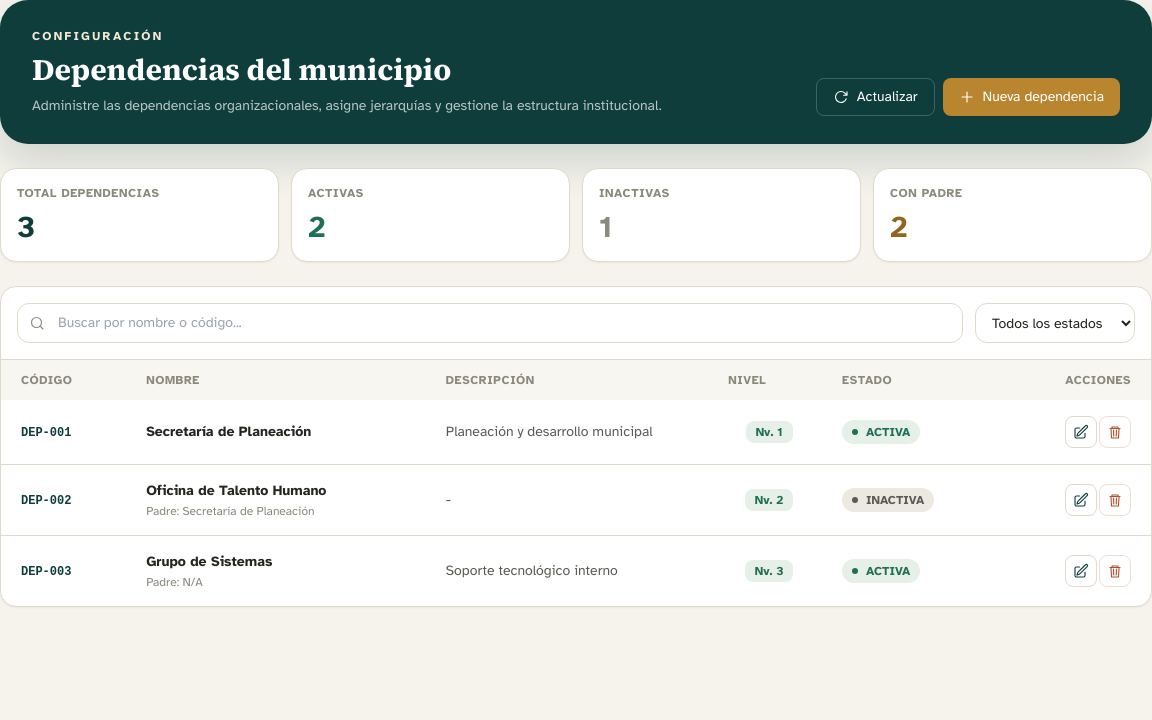
Scenario: DependenciasPage › edita una dependencia existente
Check: the text "DEP-001" is shown, box [21,426,71,440]
Click the button named "Editar" in the row of "DEP-001": (1081, 432) [1065,416,1097,448]
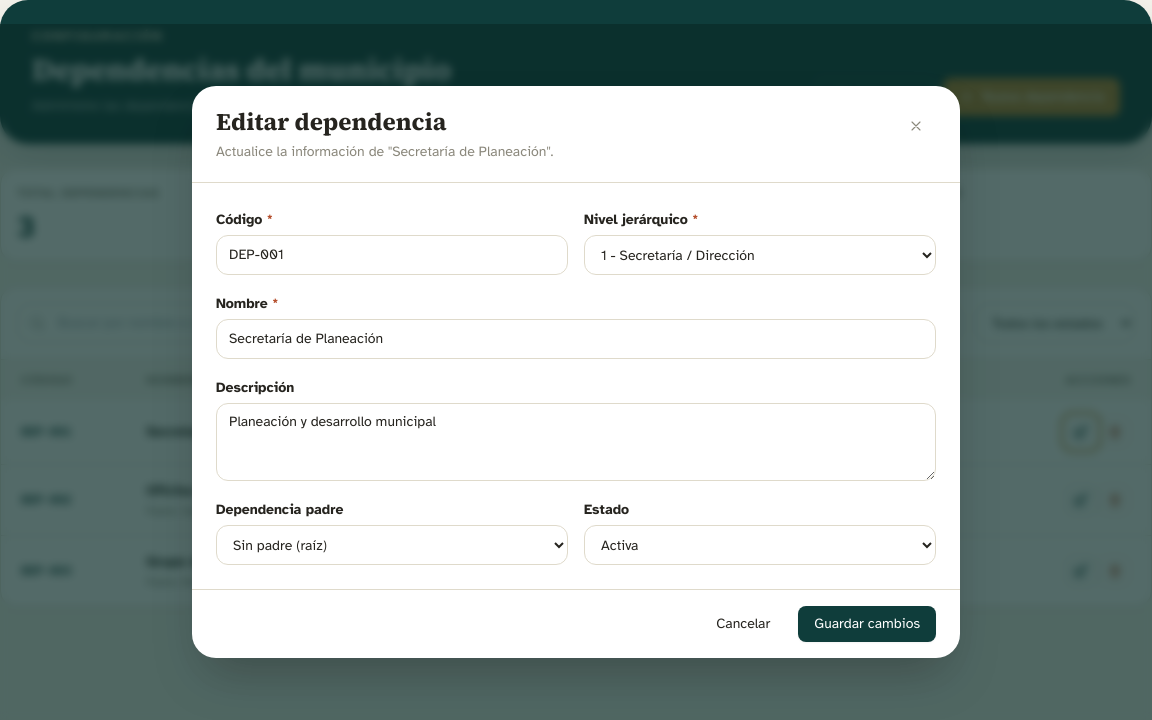
Check: the heading "Editar dependencia" is shown, box [216,105,446,138]
Check: the text "Actualice la información de \"Secretaría de Planeación\"." is shown, box [216,142,554,162]
Check: the 1st field with placeholder "Ej: DEP-001" is disabled, box [216,235,568,275]
Replace the text in the 2nd field with placeholder "Ej: Secretaría de Planeación" with "Secretaría Renombrada": (576, 339) [216,319,936,359]
Replace the text in the text box with placeholder "Descripción opcional de la dependencia..." with "Descripción actualizada": (576, 442) [216,403,936,481]
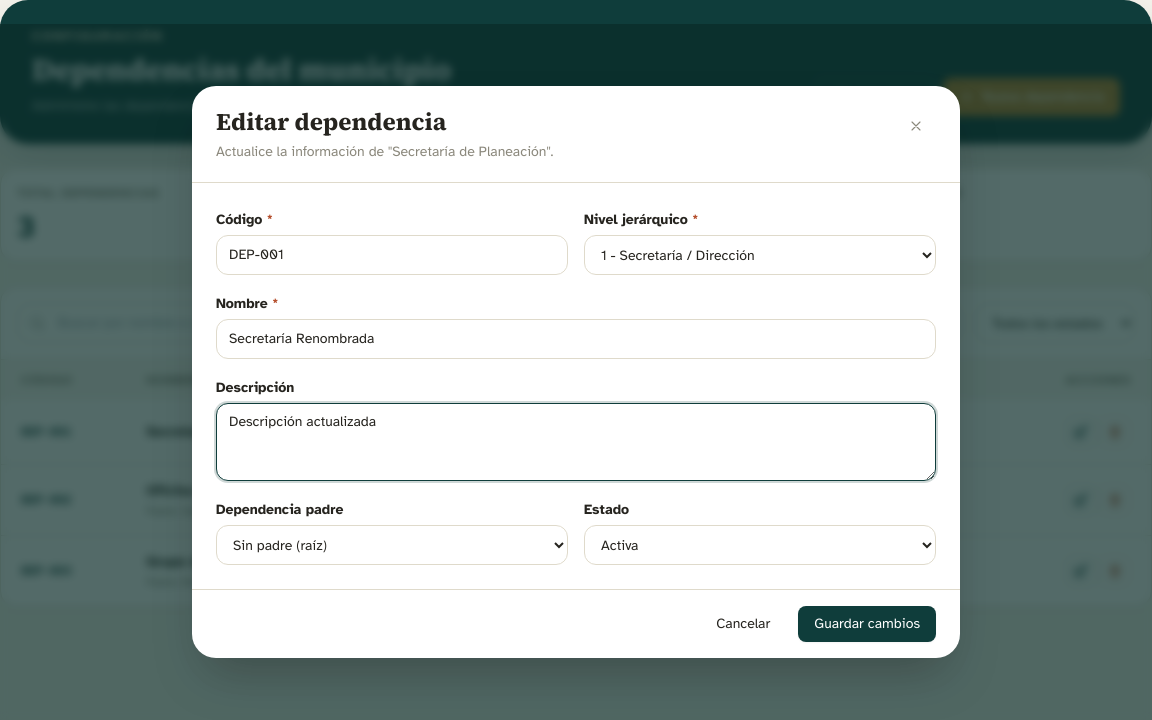
Select "3 - Oficina / Grupo" in the dropdown below "Nivel jerárquico": (760, 255) [584,235,936,275]
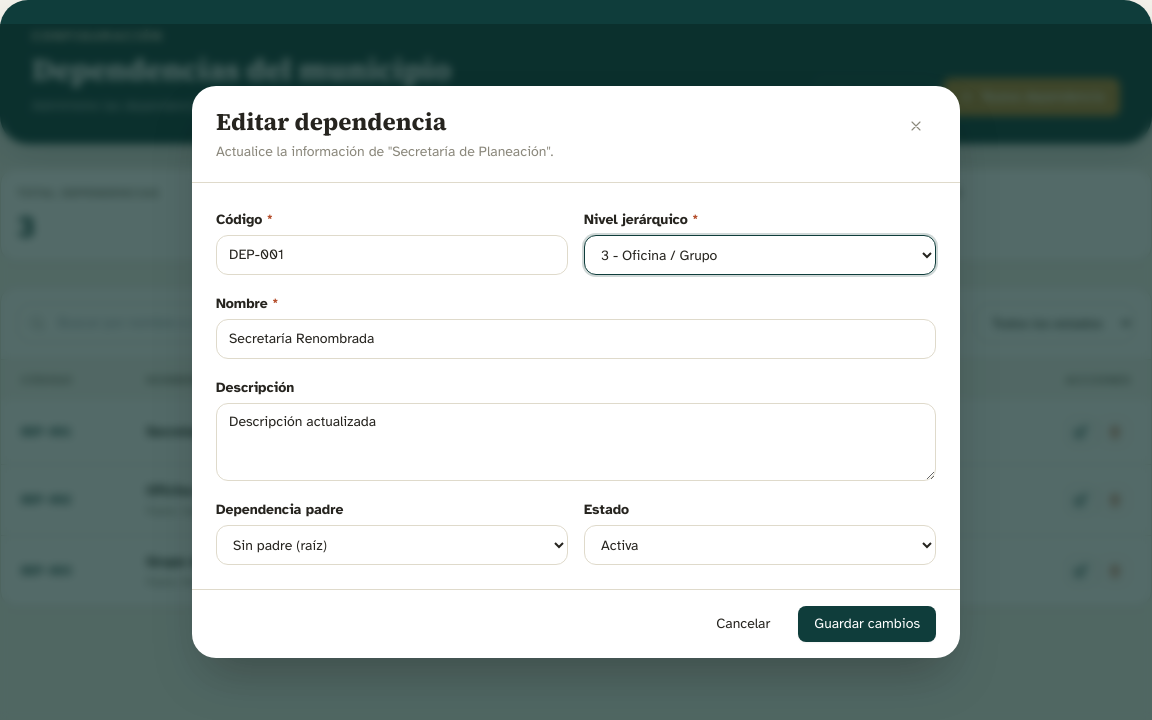
Select "DEP-002 - Oficina de Talento Humano" in the dropdown below "Dependencia padre": (392, 545) [216,525,568,565]
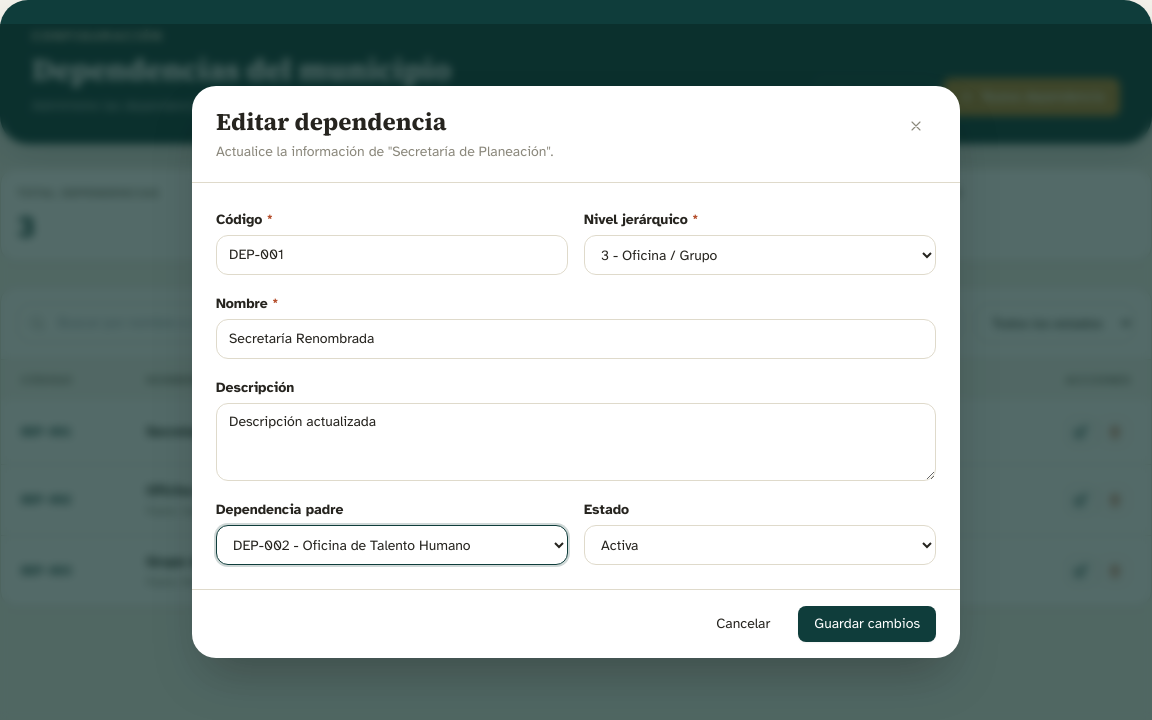
Select "Inactiva" in the 3rd dropdown: (760, 545) [584,525,936,565]
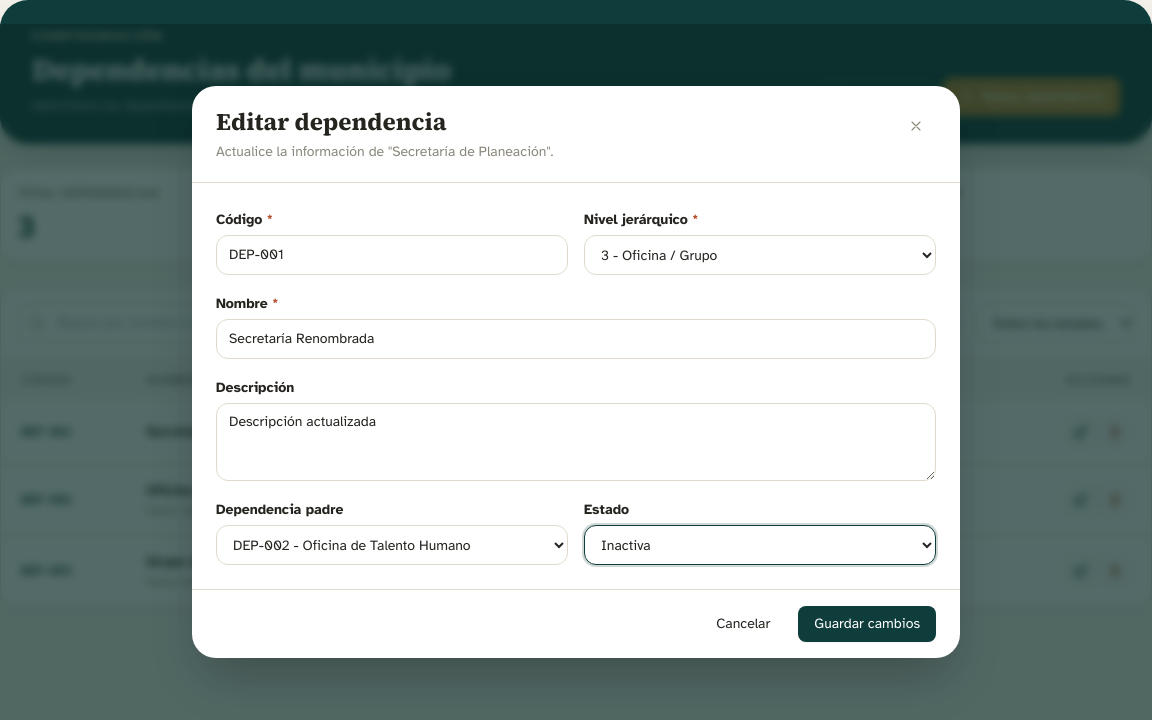
Click the button "Guardar cambios": (867, 624) [798,606,936,642]
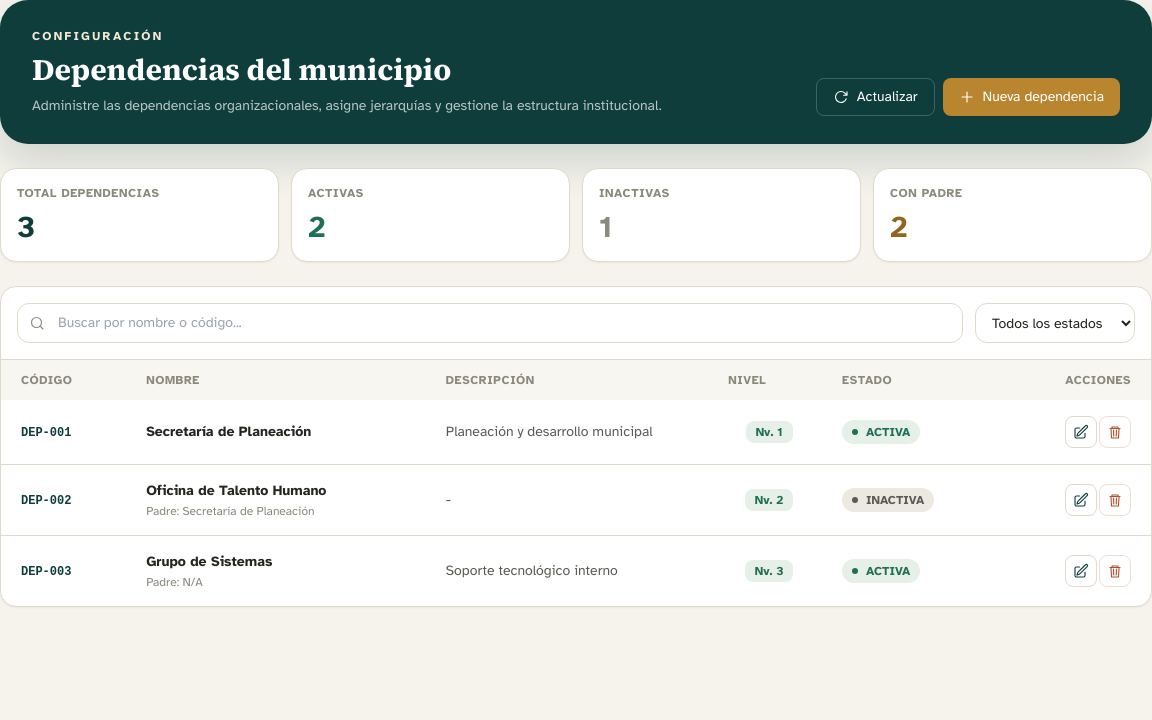
Check: the dialog is gone
